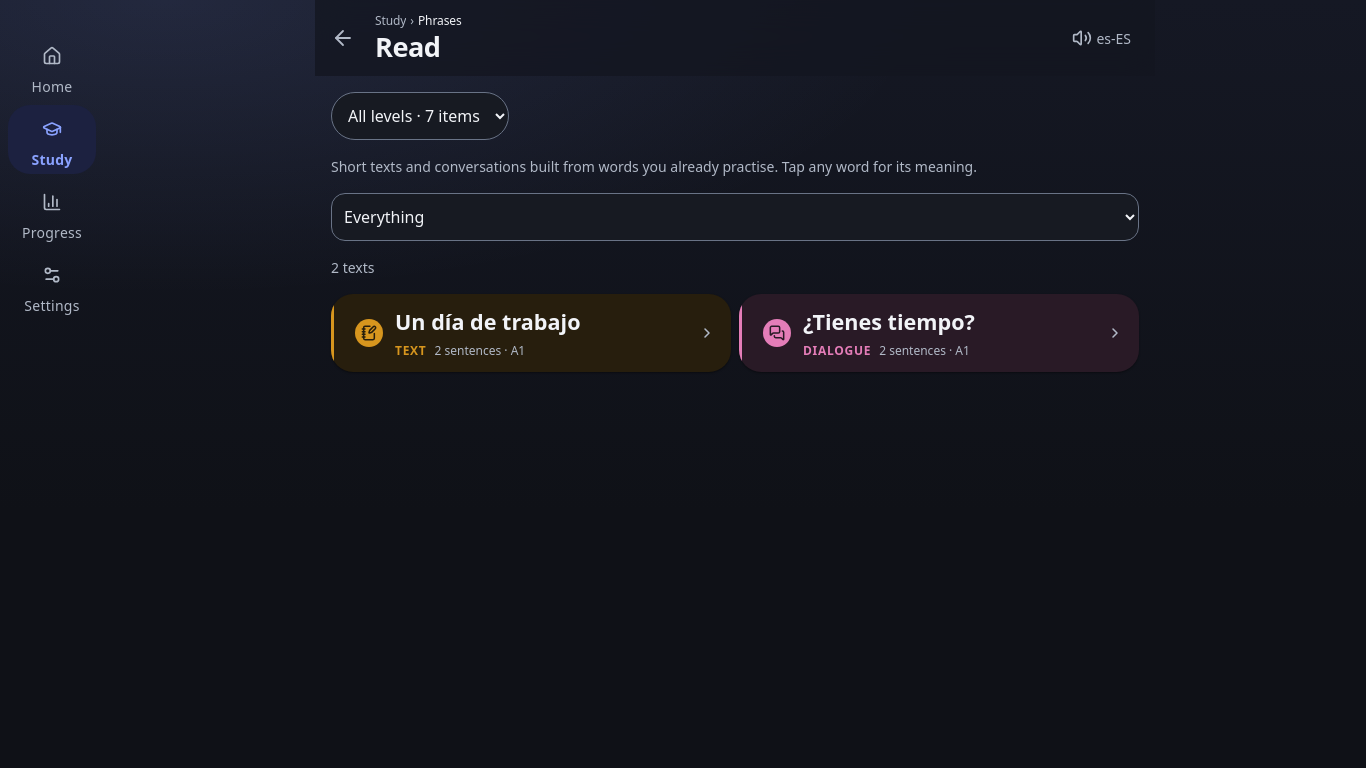
Test: leaving a study sheet › returns from the reading list to the section that opened it
Click the button named "Go back". click: (343, 38)
box: [319,14,367,62]
(page scrolled)
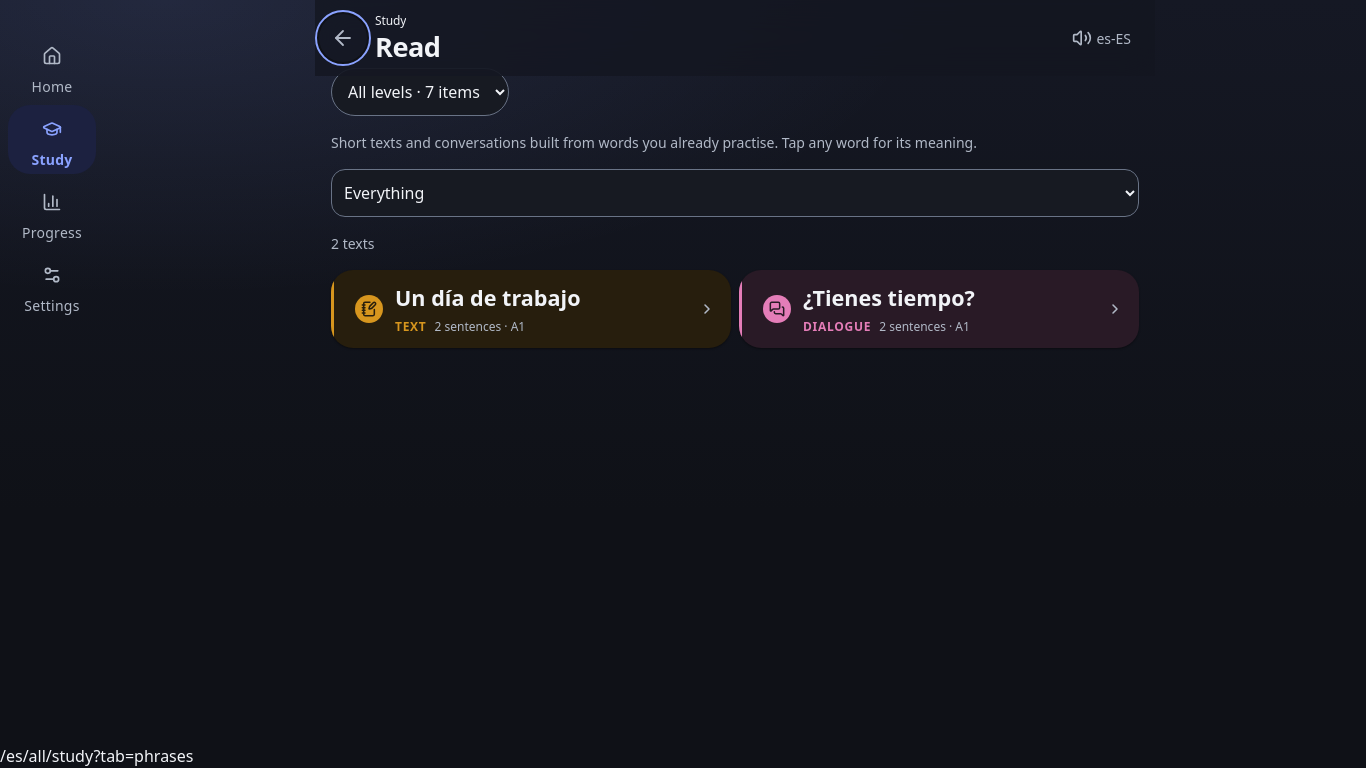
Expected: the text with test id "where" shows "/study?tab=phrases", [0,745,194,767]
